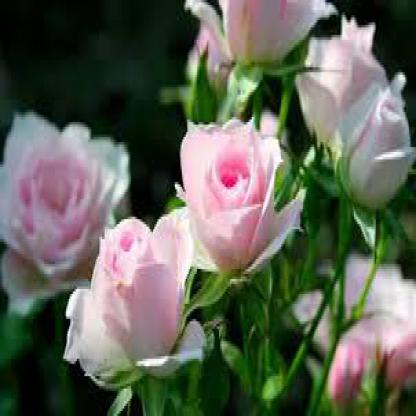Rose-Mawar: (218, 1, 415, 218), (56, 198, 209, 397), (2, 101, 132, 305), (174, 106, 300, 285)
